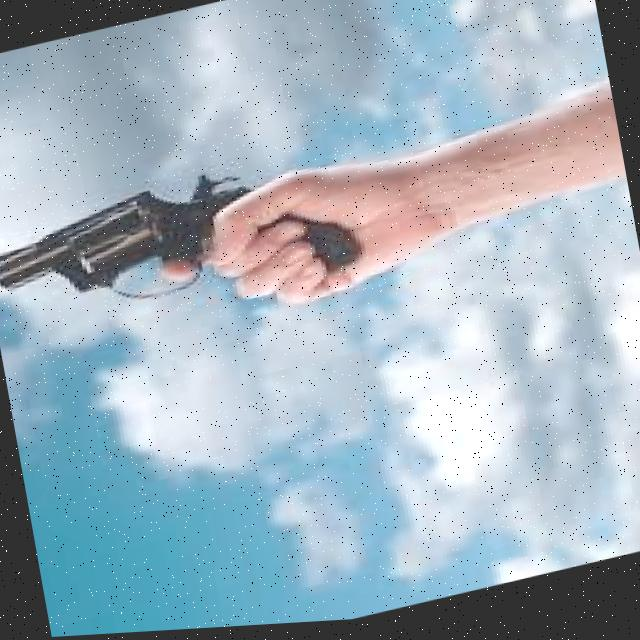pistol: (0, 163, 268, 333)
